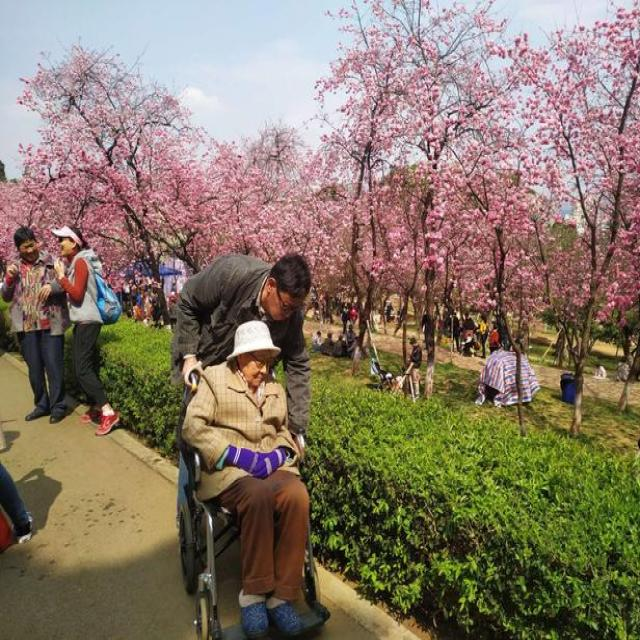wheelchairs: (168, 365, 334, 640)
